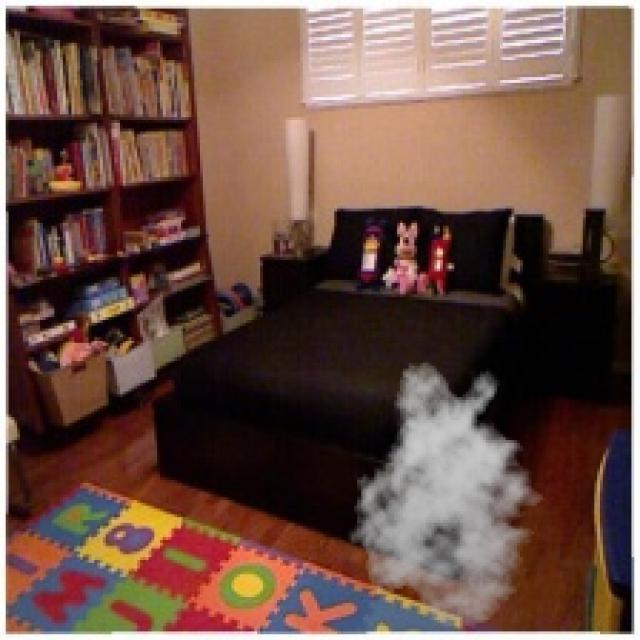Smoke: (343, 361, 554, 628)
